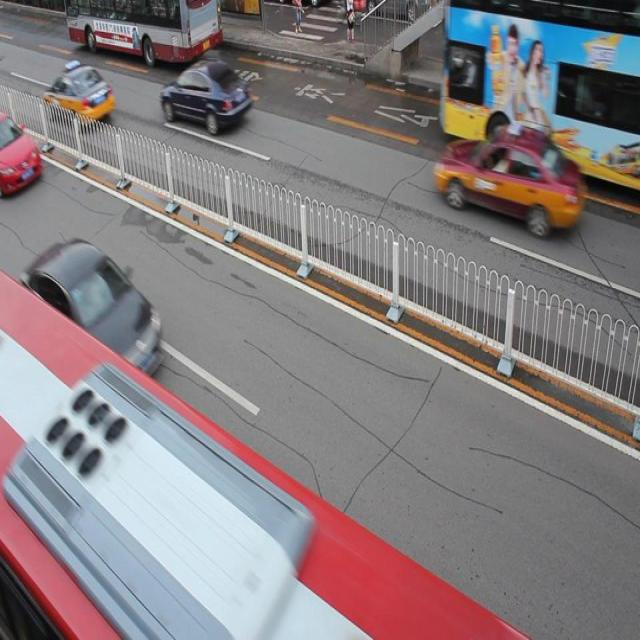car: (22, 238, 163, 378), (433, 119, 583, 238), (160, 60, 250, 133), (45, 61, 116, 130), (1, 114, 44, 197)
van: (1, 270, 525, 640), (440, 1, 640, 188), (65, 1, 222, 64)
